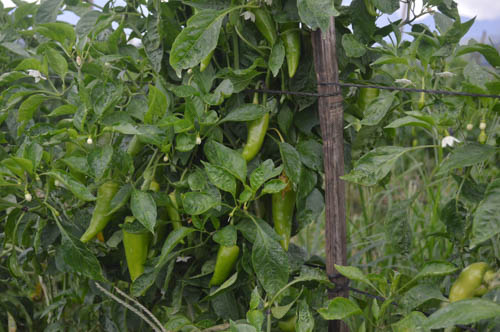ChiliPepper: (72, 171, 122, 250), (448, 254, 494, 331), (266, 170, 304, 254), (118, 221, 152, 283), (239, 102, 270, 165), (205, 242, 244, 290), (160, 188, 191, 245), (281, 23, 309, 82), (246, 2, 281, 48)
